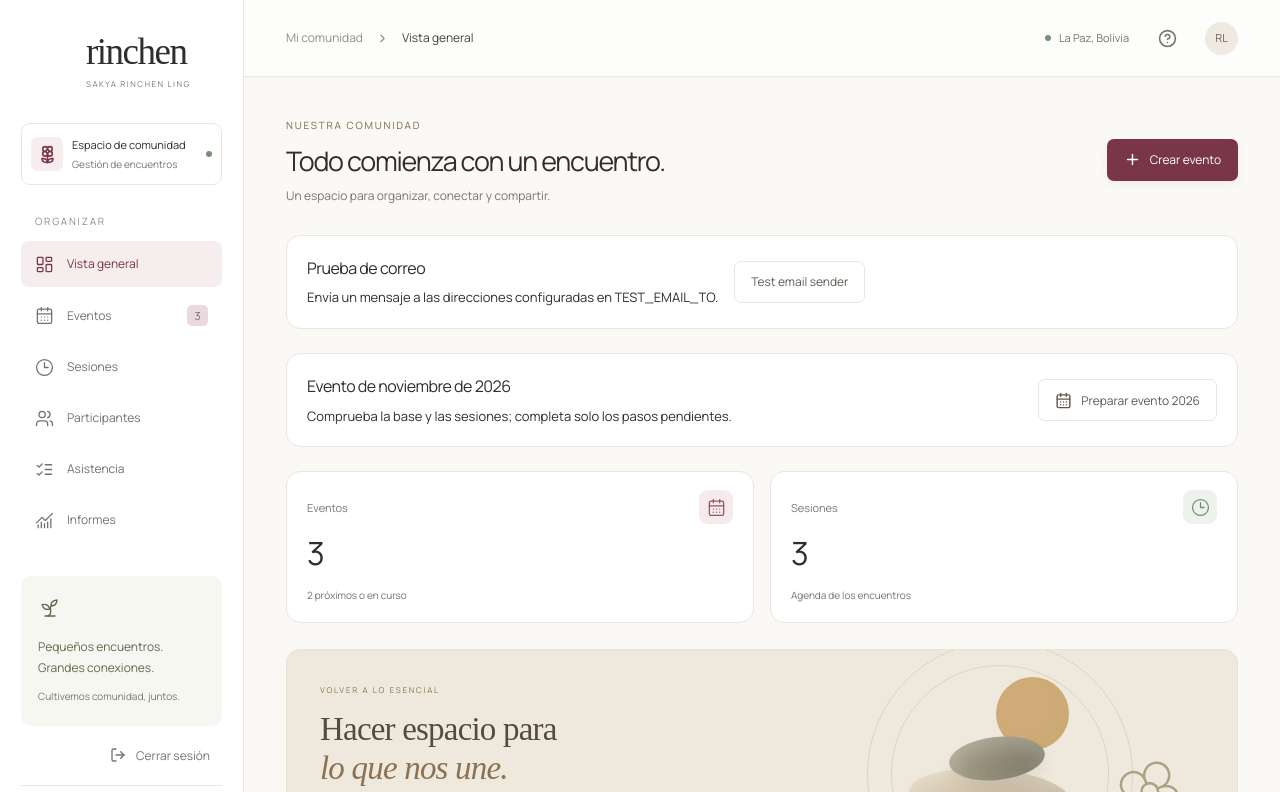
Test: React management views › renders real endpoint counts without a legacy menu
The width and height of the screenshot is (1280, 792).
Expected: the element named "Resumen de los eventos" shows "3", [307,531,324,575]
Click the button named "Ayuda": (1167, 38) [1149,20,1185,56]
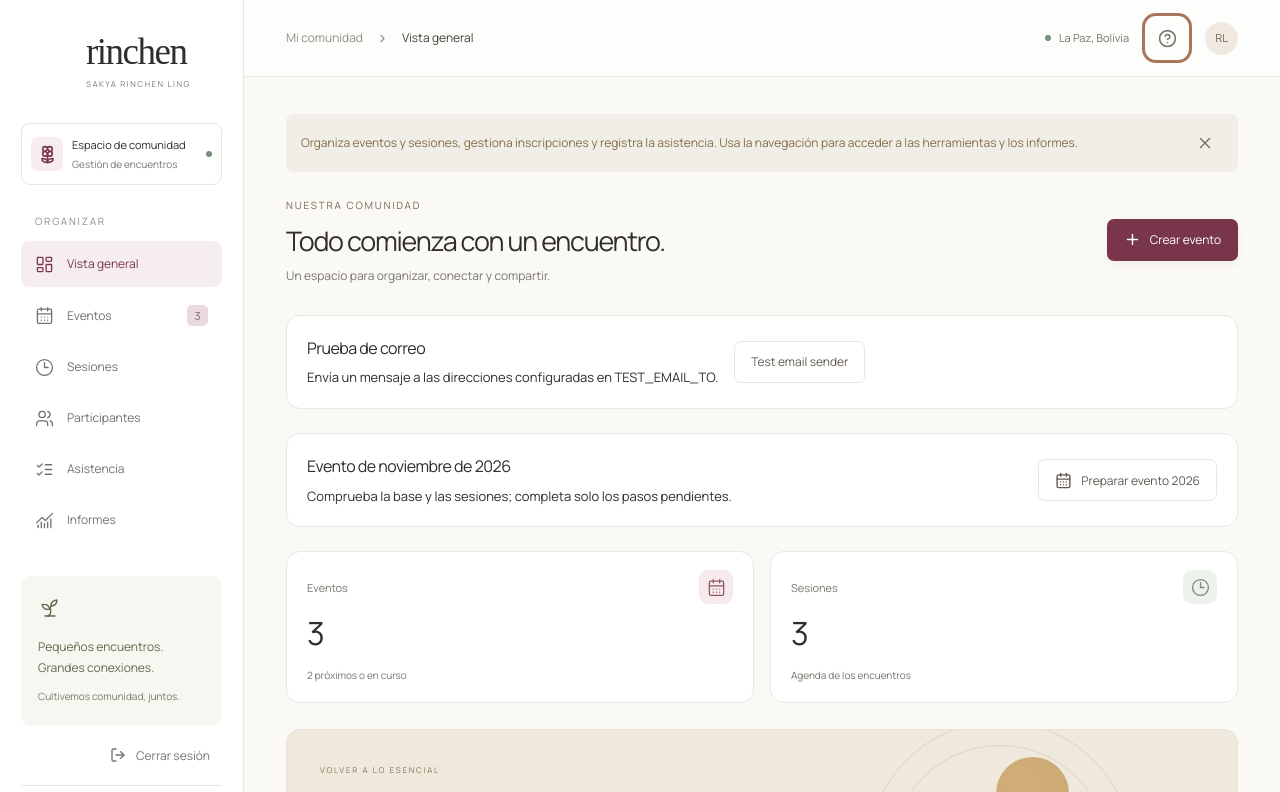
Expected: the message shows "Usa la navegación", [301,134,1078,151]
